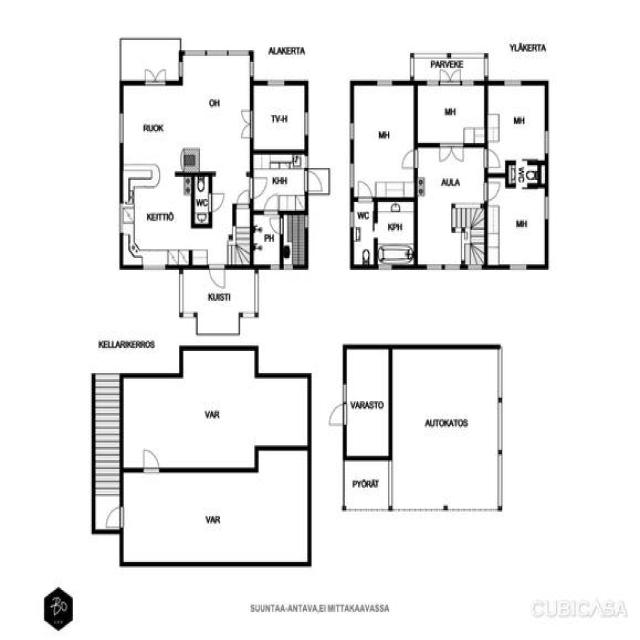door: (254, 184, 280, 212), (140, 445, 163, 474), (437, 142, 467, 164), (104, 503, 127, 529), (327, 401, 349, 428), (304, 169, 326, 195), (399, 147, 419, 172), (142, 68, 169, 86), (240, 107, 254, 141), (249, 175, 268, 200), (208, 264, 226, 290), (483, 147, 502, 171), (483, 180, 502, 202), (208, 191, 226, 214), (356, 179, 374, 201), (263, 192, 280, 215), (448, 70, 466, 87), (236, 188, 251, 207), (439, 68, 454, 86), (269, 216, 284, 234), (425, 75, 440, 89)
window: (494, 388, 506, 512), (494, 352, 506, 464), (201, 46, 250, 58), (495, 448, 504, 506), (423, 260, 463, 272), (386, 457, 395, 510), (354, 178, 374, 201), (339, 458, 347, 508), (116, 110, 125, 146), (116, 201, 125, 237), (140, 261, 169, 272), (302, 109, 311, 138), (348, 160, 356, 192), (374, 77, 396, 88), (502, 78, 524, 89), (542, 128, 550, 157), (507, 262, 530, 272), (265, 78, 287, 88), (543, 194, 550, 224), (348, 120, 357, 143), (465, 263, 485, 273), (377, 262, 395, 273), (267, 261, 283, 273), (341, 382, 349, 405), (248, 58, 256, 79), (177, 59, 185, 80), (280, 262, 295, 273), (348, 208, 356, 228), (460, 78, 476, 88), (425, 78, 440, 88), (302, 214, 310, 231), (372, 223, 379, 240), (304, 155, 310, 171)
zone: (123, 347, 316, 473), (389, 346, 502, 512), (118, 471, 308, 566), (120, 84, 248, 172), (179, 54, 252, 174), (352, 82, 416, 198), (124, 173, 193, 266), (344, 346, 391, 460), (487, 183, 547, 267), (487, 83, 547, 165), (415, 82, 488, 144), (417, 148, 486, 208), (252, 83, 307, 151), (250, 151, 307, 211), (375, 198, 416, 264), (352, 199, 376, 268), (252, 212, 281, 266), (281, 212, 307, 264), (508, 160, 547, 186), (193, 173, 211, 224)
